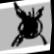not correct: (4, 0, 52, 52)
